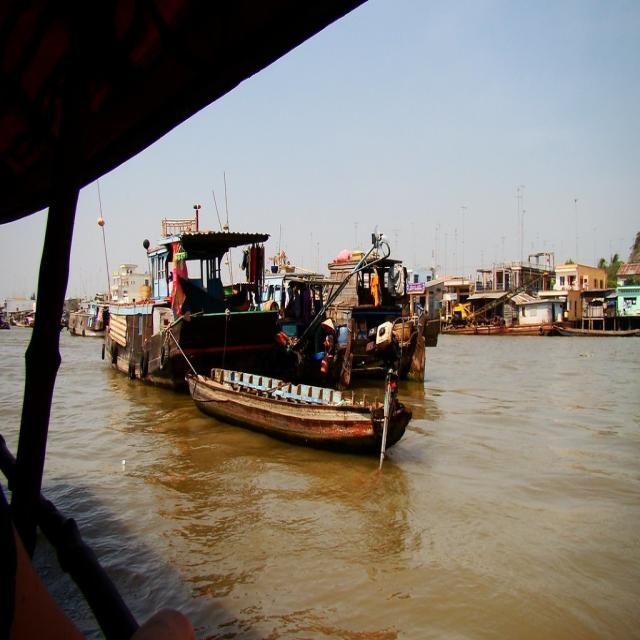boat: (104, 228, 274, 392), (176, 362, 406, 444), (555, 322, 640, 341), (503, 322, 556, 338), (437, 326, 480, 334)
